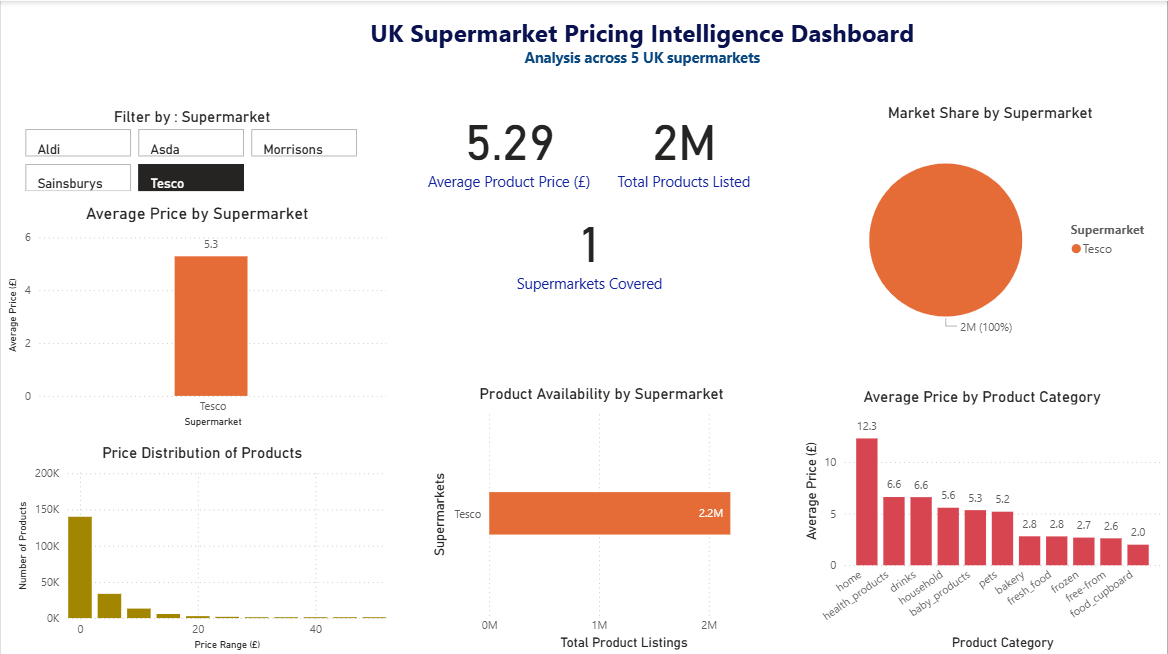

This screenshot's page, from the dashboard's own definition file:
{"tool":"powerbi","page":{"name":"Page 1","canvas":[1280,720],"ordinal":0},"visuals":[{"type":"card","fields":{"Values":["Avg(clean_data.AVG_PRICE)"]},"box":[455.6,104.3,204.5,111.1],"z":0},{"type":"card","fields":{"Values":["Count(clean_data.SUPERMARKET)"]},"box":[558.5,215.4,175.6,111.1],"z":1000},{"type":"card","fields":{"Values":["Sum(clean_data.TOTAL_PRODUCTS)"]},"box":[660,104.3,179.8,111.1],"z":2000},{"type":"clusteredColumnChart","title":"Average Price by Supermarket","fields":{"Category":["clean_data.SUPERMARKET"],"Y":["Avg(clean_data.AVG_PRICE)"]},"box":[0,214.1,430.9,263.5],"z":3000},{"type":"clusteredBarChart","title":"Product Availability by Supermarket","fields":{"Category":["clean_data.SUPERMARKET"],"Y":["Sum(clean_data.TOTAL_PRODUCTS)"]},"box":[465.2,413,388.3,307.4],"z":4000},{"type":"clusteredColumnChart","title":"Price Distribution of Products","fields":{"Category":["processed_clean_data_2026-04-15-1959.Price (£) (bins)"],"Y":["CountNonNull(processed_clean_data_2026-04-15-1959.Price (£))"]},"box":[11,477.5,419.9,242.9],"z":5000},{"type":"pieChart","title":"Market Share by Supermarket","fields":{"Category":["clean_data.SUPERMARKET"],"Y":["Sum(clean_data.TOTAL_PRODUCTS)"]},"box":[891.9,104.3,388.3,292.3],"z":6000},{"type":"clusteredColumnChart","title":"Average Price by Product Category","fields":{"Category":["processed_clean_data_2026-04-15-1959.CATEGORY"],"Y":["Avg(processed_clean_data_2026-04-15-1959.Price (£))"]},"box":[874.1,415.8,406.2,304.6],"z":7000},{"type":"advancedSlicerVisual","fields":{"Values":["clean_data.SUPERMARKET"]},"box":[22,116.6,376,98.8],"z":8000},{"type":"textbox","box":[373.2,11,661.4,74.1],"z":9000}]}

Visuals, with their boxes in screenshot pixels (x1, y1, x2, y2), scaled from the page's 1280x720 canvas onto the 1168x654 screenshot:
card - Avg(clean_data.AVG_PRICE): (416, 95, 602, 196)
card - Count(clean_data.SUPERMARKET): (510, 196, 670, 297)
card - Sum(clean_data.TOTAL_PRODUCTS): (602, 95, 766, 196)
"Average Price by Supermarket" clusteredColumnChart: (0, 194, 393, 434)
"Product Availability by Supermarket" clusteredBarChart: (424, 375, 779, 653)
"Price Distribution of Products" clusteredColumnChart: (10, 434, 393, 653)
"Market Share by Supermarket" pieChart: (814, 95, 1167, 360)
"Average Price by Product Category" clusteredColumnChart: (798, 378, 1167, 653)
advancedSlicerVisual - clean_data.SUPERMARKET: (20, 106, 363, 196)
textbox: (341, 10, 944, 77)
